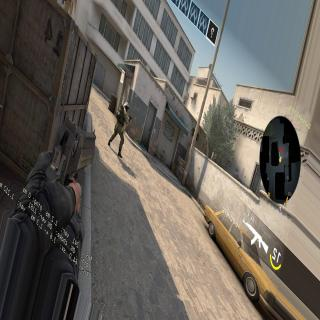CT-Body: (109, 98, 130, 159)
CT-Head: (124, 100, 130, 110)
